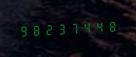eight: (30, 21, 42, 38), (108, 17, 120, 34)
four: (82, 19, 94, 35), (95, 18, 107, 34)
nine: (17, 22, 29, 39)
seven: (69, 19, 81, 36)
three: (56, 20, 68, 36)
two: (43, 21, 55, 37)
